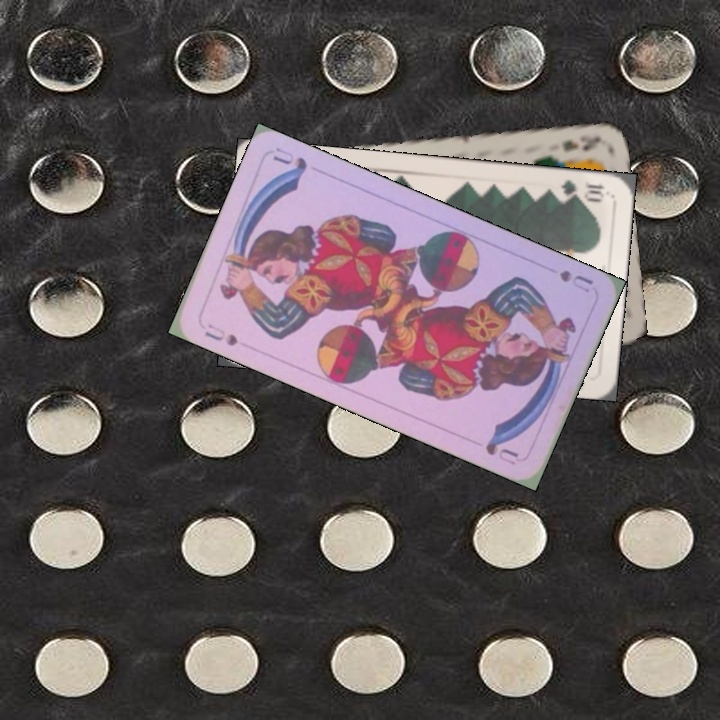EK: (558, 131, 601, 154)
G10: (557, 176, 607, 205)
SU: (555, 265, 596, 295), (200, 320, 241, 349)
